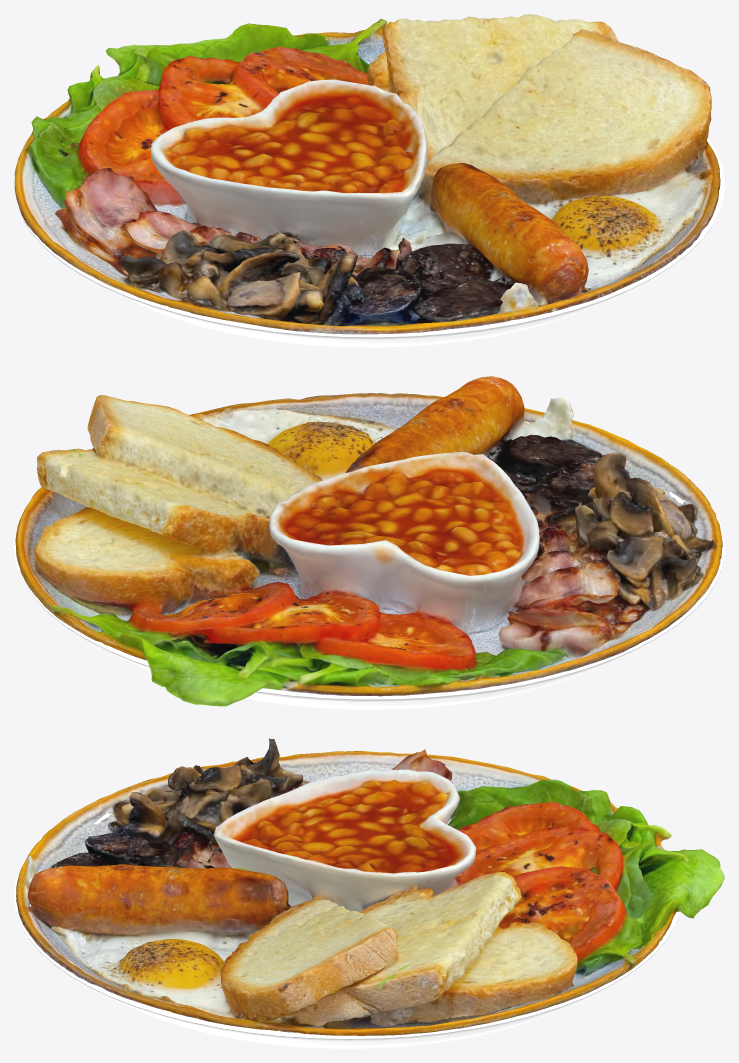
Rendered from PequenoAlmocoIngles.glb.
3 views of the same model, one above another, from view 1: azimuth 30°, elevation 25°; view 2: azimuth 150°, elevation 25°; view 3: azimuth 270°, elevation 25° (orthographic). The views are drawn at different scales.
Parts seen in each view (by area): view 1: Mesh_0, RoundPlate2; view 2: Mesh_0, RoundPlate2; view 3: Mesh_0, RoundPlate2.
Boxes of the visible parts, x1=… form: Mesh_0: x1=14, y1=14, x2=720, y2=334; RoundPlate2: x1=14, y1=138, x2=724, y2=347; Mesh_0: x1=15, y1=376, x2=722, y2=706; RoundPlate2: x1=14, y1=421, x2=724, y2=709; Mesh_0: x1=16, y1=738, x2=724, y2=1035; RoundPlate2: x1=14, y1=811, x2=679, y2=1048.
Size of the model in its own units: 0.3036 by 0.0587 by 0.3232.
Materials: 2 (1 with a texture image).
